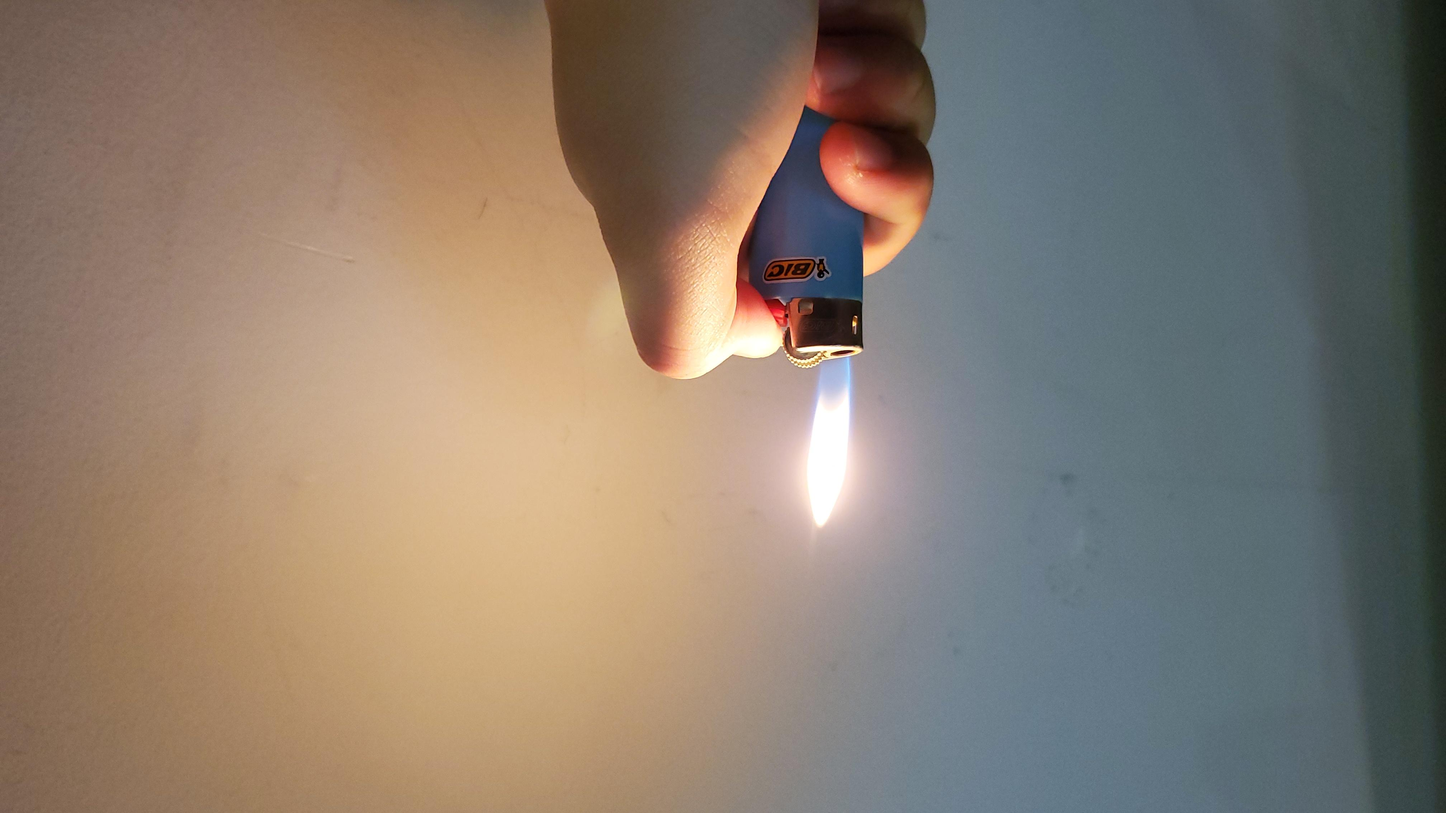fire: (585, 276, 649, 460)
